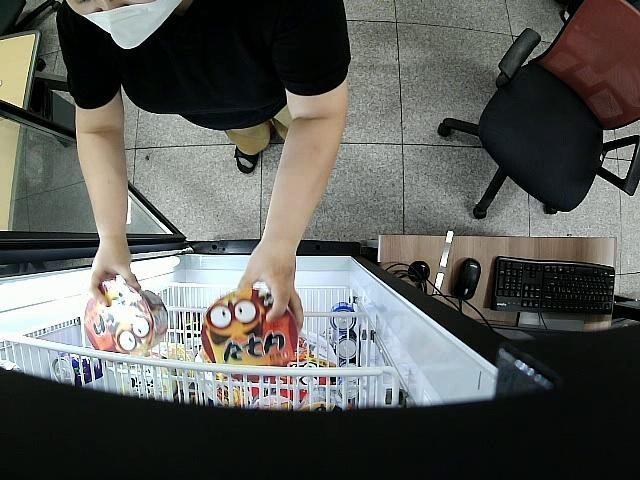05_nuguri_L: (201, 291, 299, 381), (84, 279, 170, 359)
